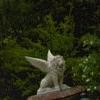Statue: (18, 39, 95, 100)
